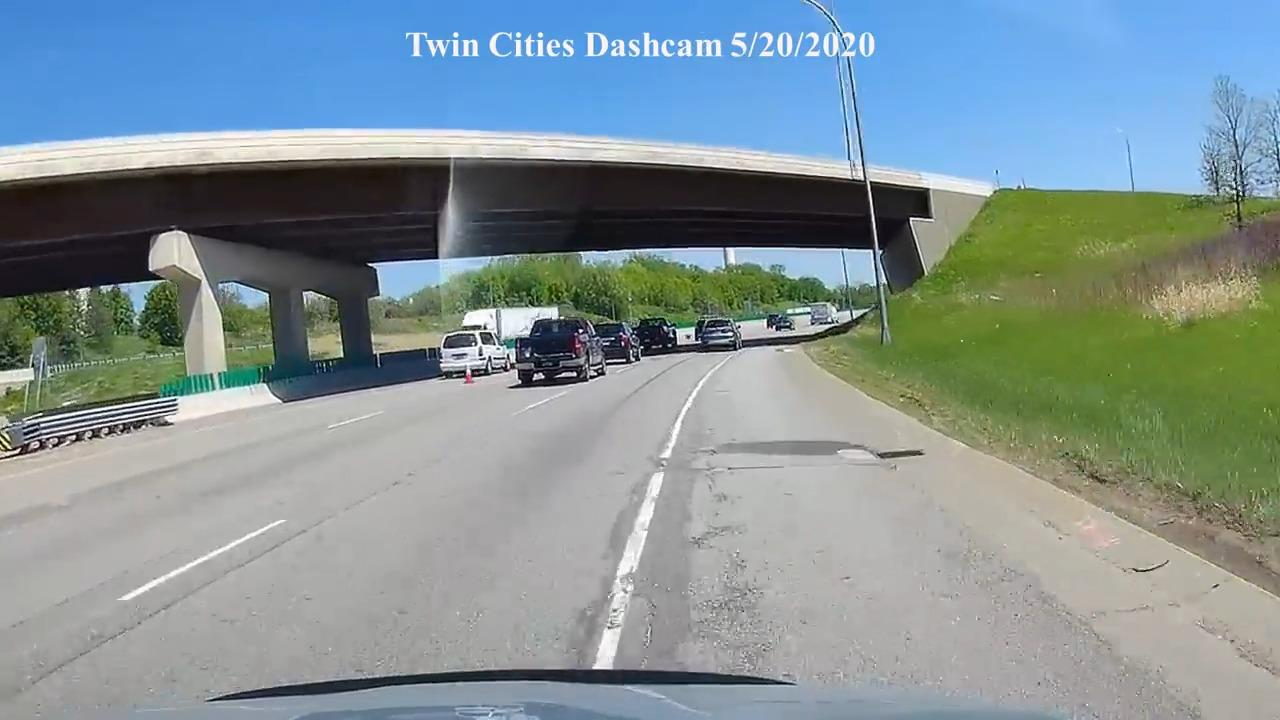car: (438, 329, 512, 378)
traffic cone: (462, 367, 474, 385)
